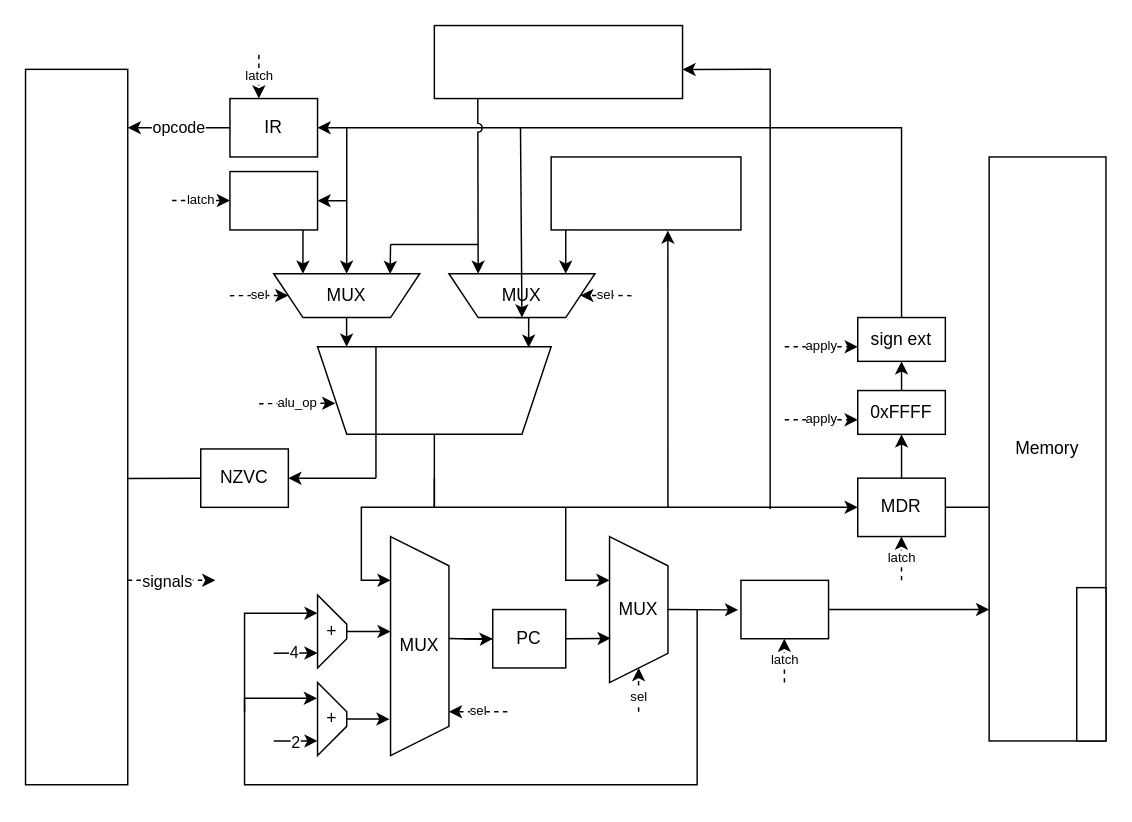
This 1132x822 diagram has some shape labels left out. The shapes that lost their labels are listed below. From the top down, each one's box as (x1, y1, x2, y2) in pixels, then its label:
(433, 24, 683, 99): Register File D0..D7
(228, 170, 318, 230): OP1
(550, 155, 741, 230): Register File A0..A 7
(316, 345, 551, 434): ALU
(24, 68, 128, 785): CU
(739, 579, 829, 639): MAR
(1075, 586, 1106, 741): Memory-mapped I/O
